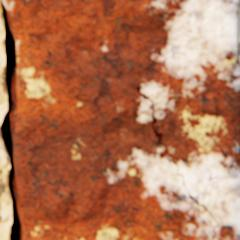brick: (3, 0, 239, 239)
crack: (135, 85, 207, 210), (0, 0, 22, 239), (209, 211, 217, 239)
